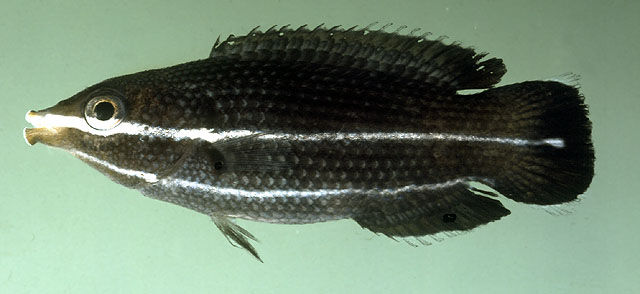fish: (23, 21, 598, 264)
